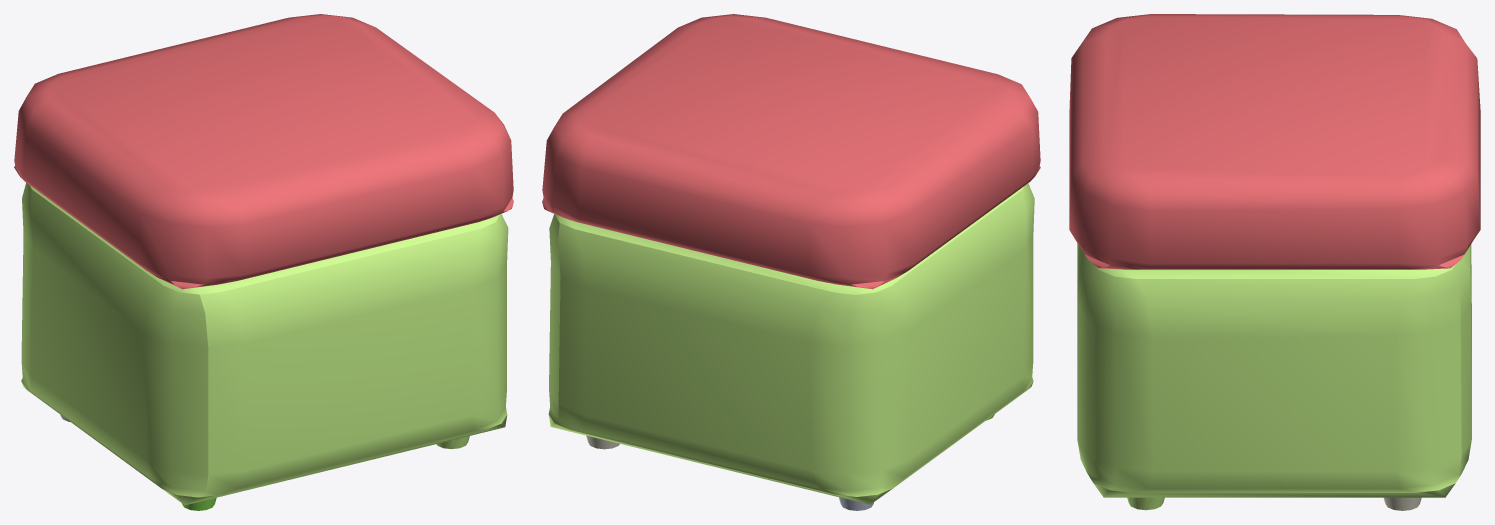
3 renders of one model, left to right at view 1: azimuth 30°, elevation 25°; view 2: azimuth 150°, elevation 25°; view 3: azimuth 270°, elevation 25°, orthographic. The views are drawn at different scales.
Parts seen in each view (by area): view 1: split_parent_0, Object_2.002; view 2: split_parent_0, Object_2.002; view 3: Object_2.002, split_parent_0.
Part boxes in pixels (box(x1,y1,x2,y2)): split_parent_0: box(21, 182, 508, 505); Object_2.002: box(14, 14, 513, 289); split_parent_0: box(548, 183, 1034, 504); Object_2.002: box(542, 14, 1040, 289); Object_2.002: box(1069, 14, 1480, 269); split_parent_0: box(1077, 243, 1471, 510).
Size of the model in its own units: 1 by 0.8551 by 0.9256.
